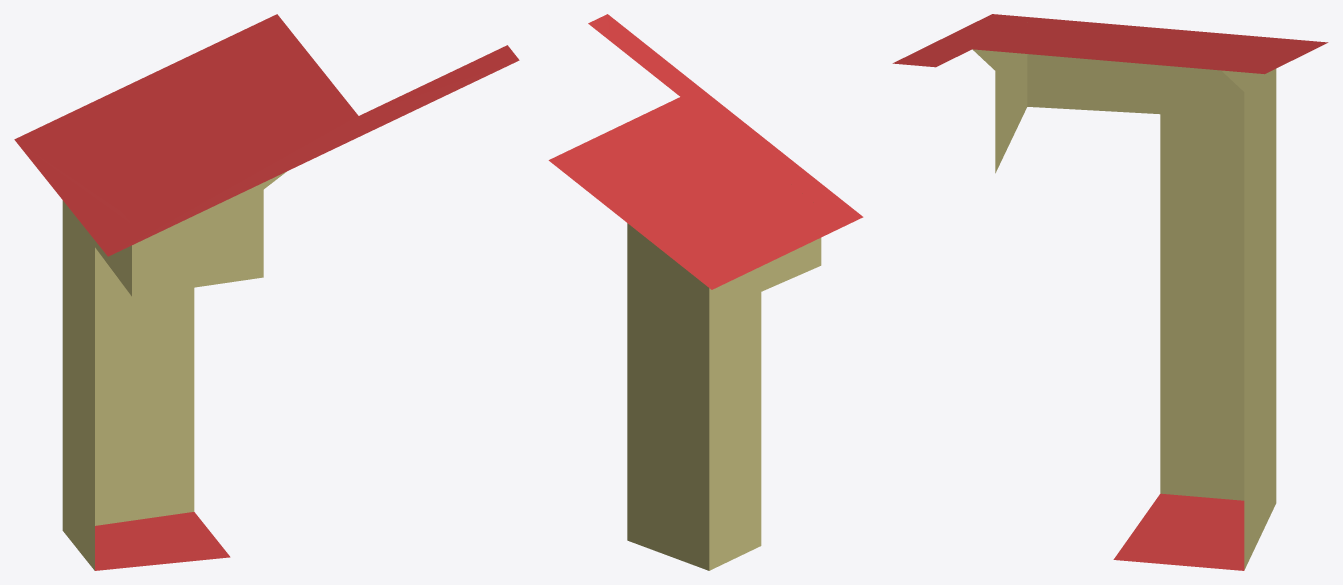
3 views of the same model, side by side, from view 1: azimuth 30°, elevation 25°; view 2: azimuth 150°, elevation 25°; view 3: azimuth 270°, elevation 25° (orthographic). The views are drawn at different scales.
Bounding box in the file's own units: 8.52 × 7.33 × 11.25.
